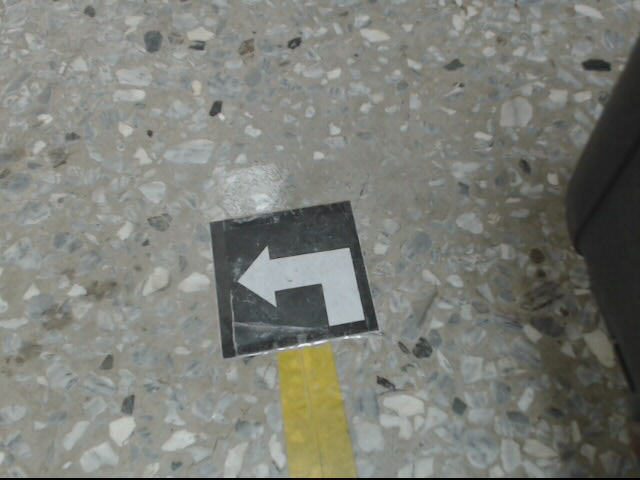left: (211, 201, 381, 359)
